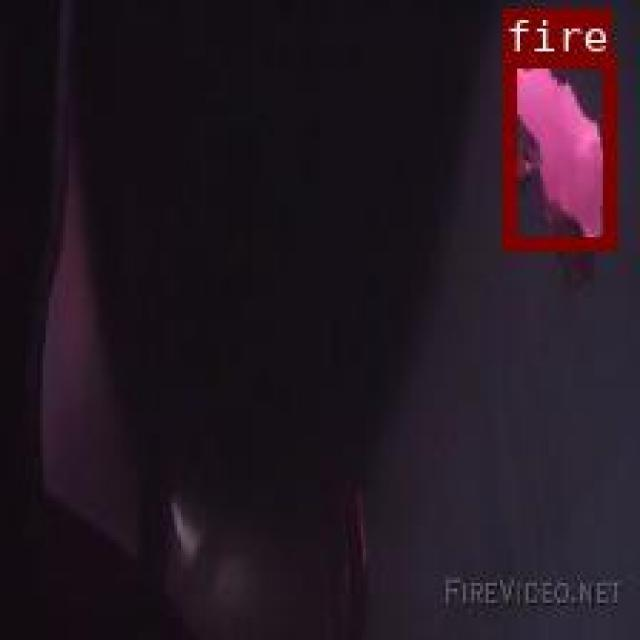fire: (501, 53, 612, 247)
